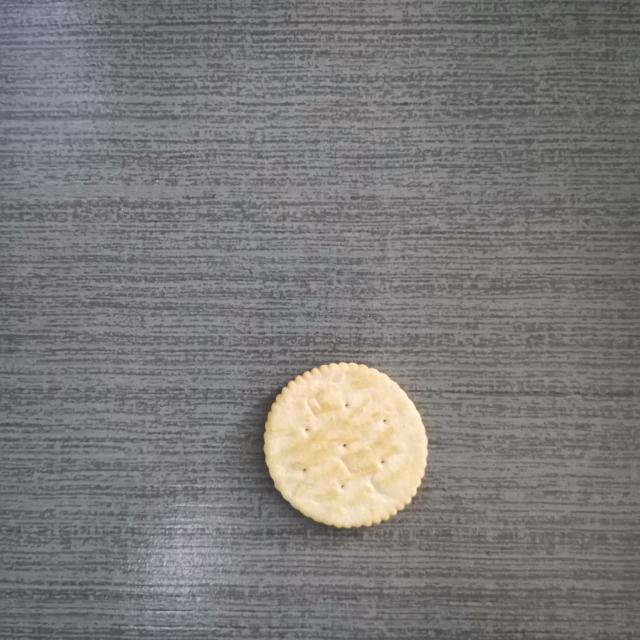Intact: (256, 353, 443, 542)
